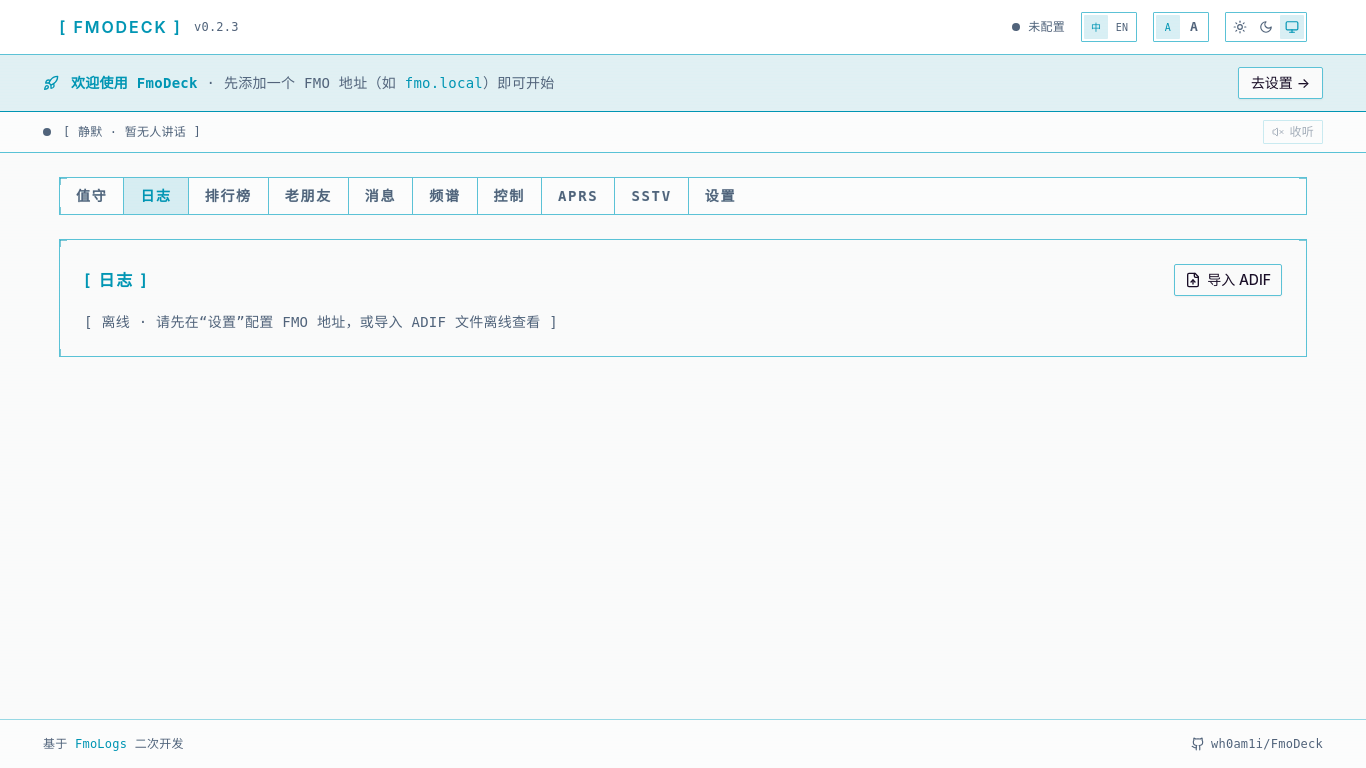
Test: App 烟雾测试 › 点值守 tab → 满屏仪表盘，不渲染 Header/Nav/Footer
The width and height of the screenshot is (1366, 768).
What coordinates should you click on to do the following:
click the link "值守"
I would click on:
 (92, 196)
Its box is [60,178,124,214].
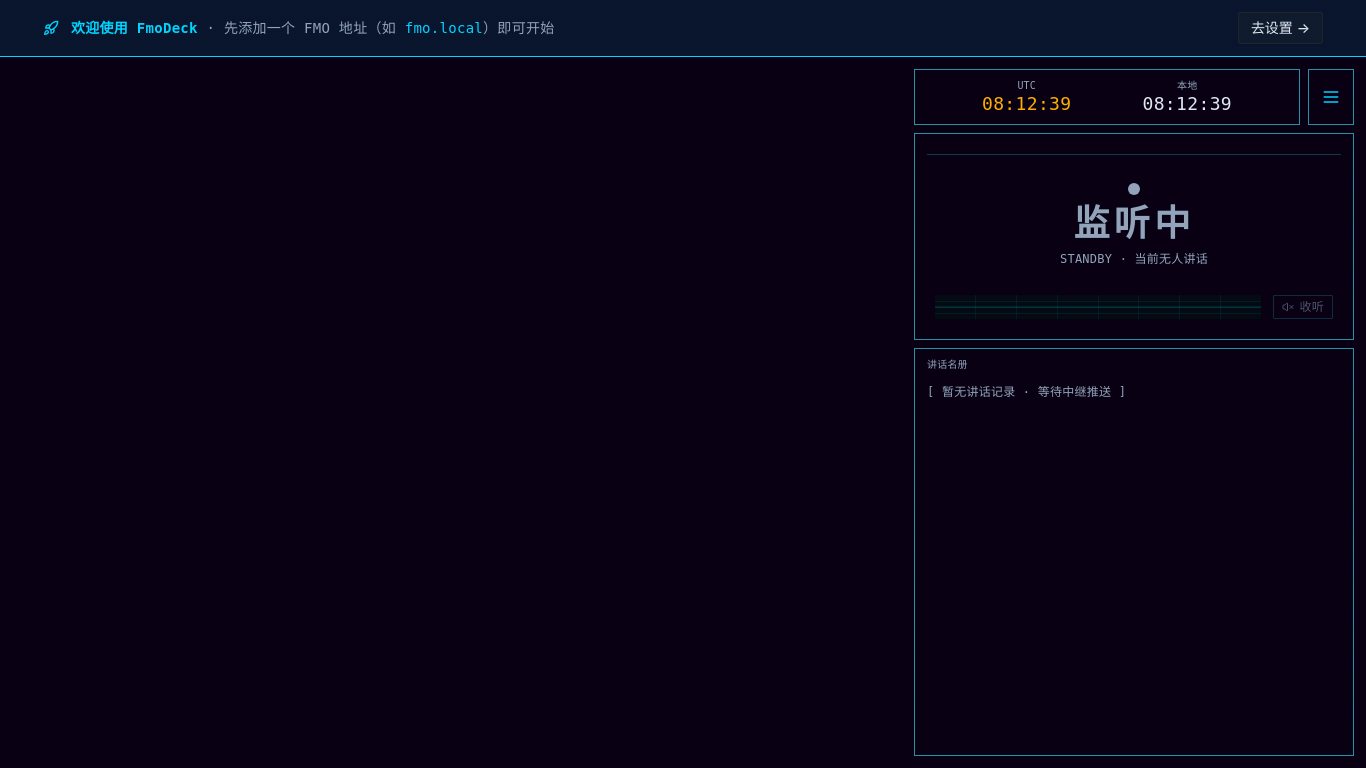
Check: the text "讲话名册" is shown, box [927,358,968,370]
Check: the button named "页面菜单" is shown, box [1308,69,1354,124]
Check: the navigation bar "主导航" is gone
